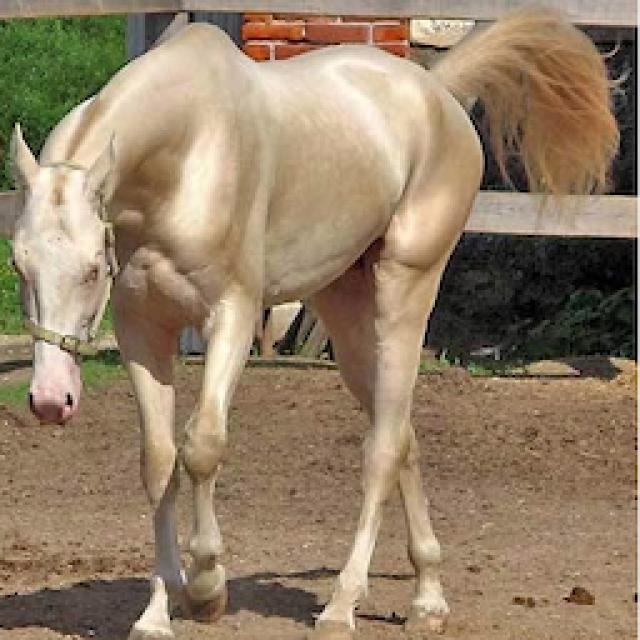Horse: (0, 8, 625, 638)
